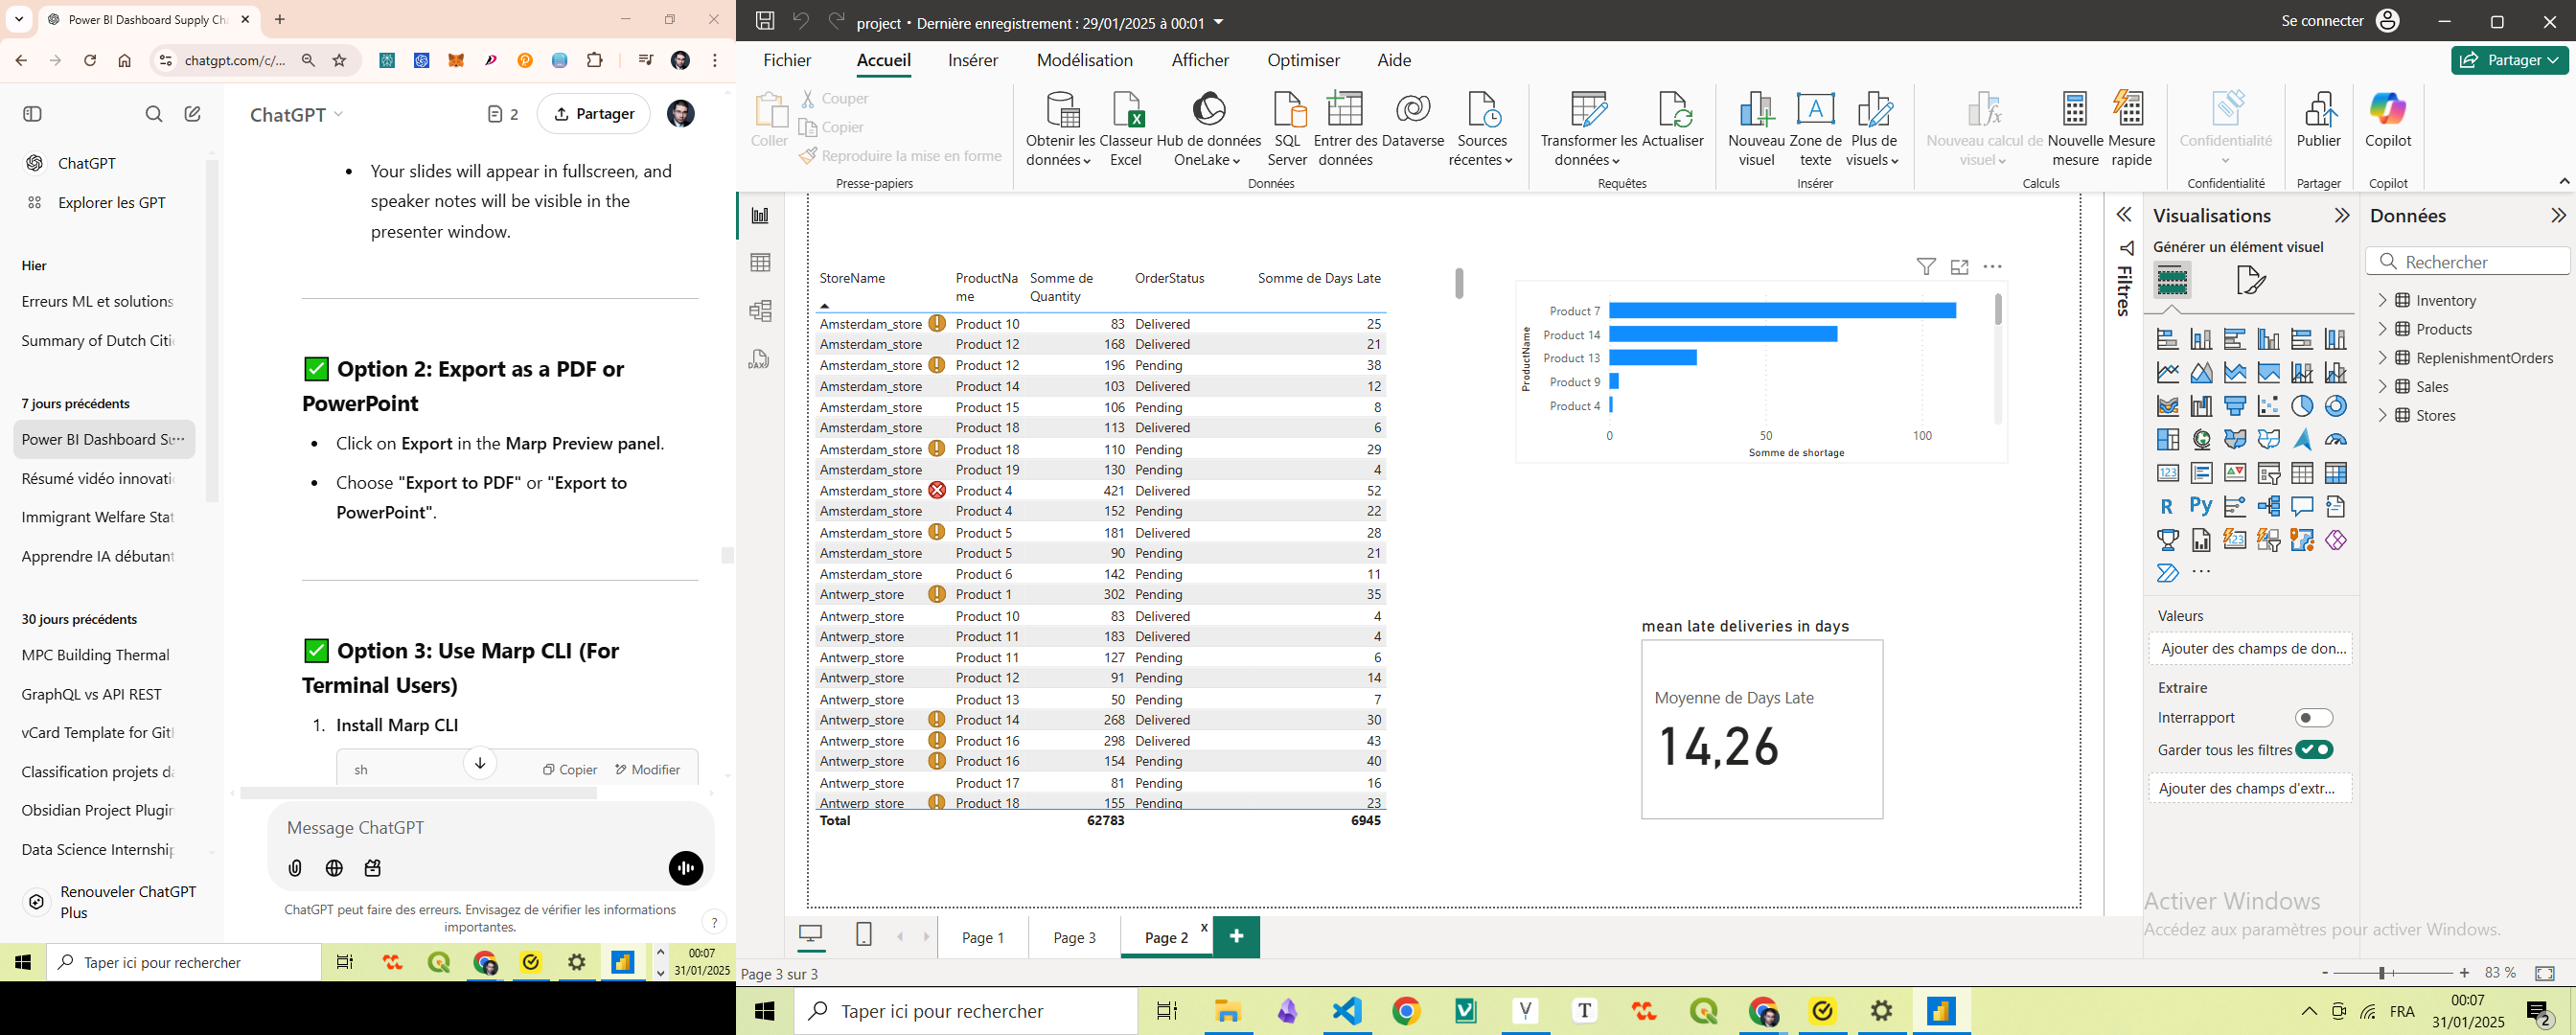

What the dashboard file says about the page in this screenshot:
{"tool":"powerbi","page":{"name":"Page 2","canvas":[1280,720],"ordinal":2},"visuals":[{"type":"cardVisual","title":"mean late deliveries in days","fields":{"Data":["Avg(ReplenishmentOrders.Days Late)"]},"box":[833.7,427.1,254.6,211.1],"z":0},{"type":"barChart","title":"Overview of shortages per product","fields":{"Category":["Products.ProductName"],"Y":["Sum(Inventory.PénurieParMagasin)"]},"box":[711.8,89.3,495.8,184.6],"z":1000},{"type":"tableEx","fields":{"Values":["Stores.StoreName","Products.ProductName","Sum(ReplenishmentOrders.Quantity)","ReplenishmentOrders.OrderStatus","Sum(ReplenishmentOrders.Days Late)"]},"box":[0,71.2,664.7,576.7],"z":2000}]}

Visuals, with their boxes on the page's 1280x720 design canvas (x1, y1, x2, y2). These are canvas units, not pixel positions in the 2576x1035 screenshot, which may show the page scaled, cropped or inside an application window:
"mean late deliveries in days" cardVisual: BBox(834, 427, 1088, 638)
"Overview of shortages per product" barChart: BBox(712, 89, 1208, 274)
tableEx - Stores.StoreName x Products.ProductName: BBox(0, 71, 665, 648)
